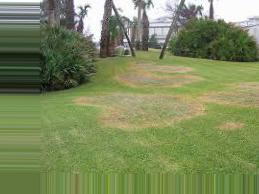patch: (95, 97, 186, 123), (135, 64, 187, 86)
